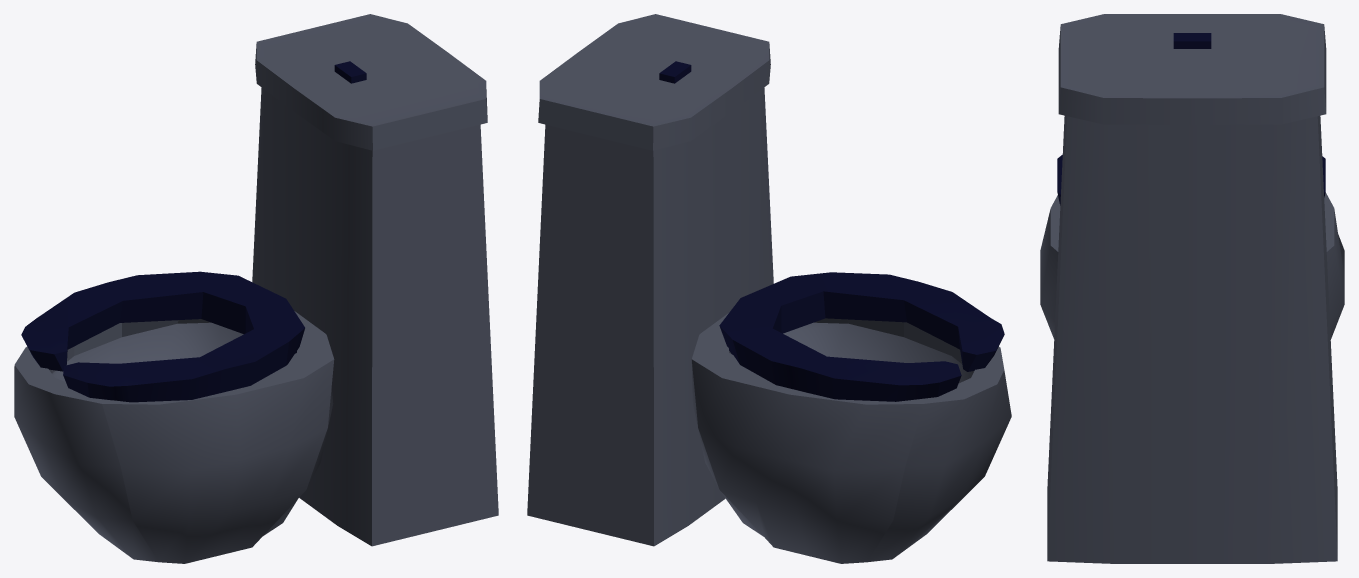
File: COLORtoiletMesh.fbx
3 views of the same model, side by side, from view 1: azimuth 30°, elevation 25°; view 2: azimuth 150°, elevation 25°; view 3: azimuth 270°, elevation 25° (orthographic). The views are drawn at different scales.
Parts seen in each view (by area): view 1: polySurface4; view 2: polySurface4; view 3: polySurface4.
Part boxes in pixels (left/top/right/bottom): polySurface4: left=14, top=14, right=498, bottom=563; polySurface4: left=527, top=14, right=1011, bottom=563; polySurface4: left=1040, top=14, right=1344, bottom=563.
Size of the model in its own units: 1.57 by 1.51 by 0.8718.
